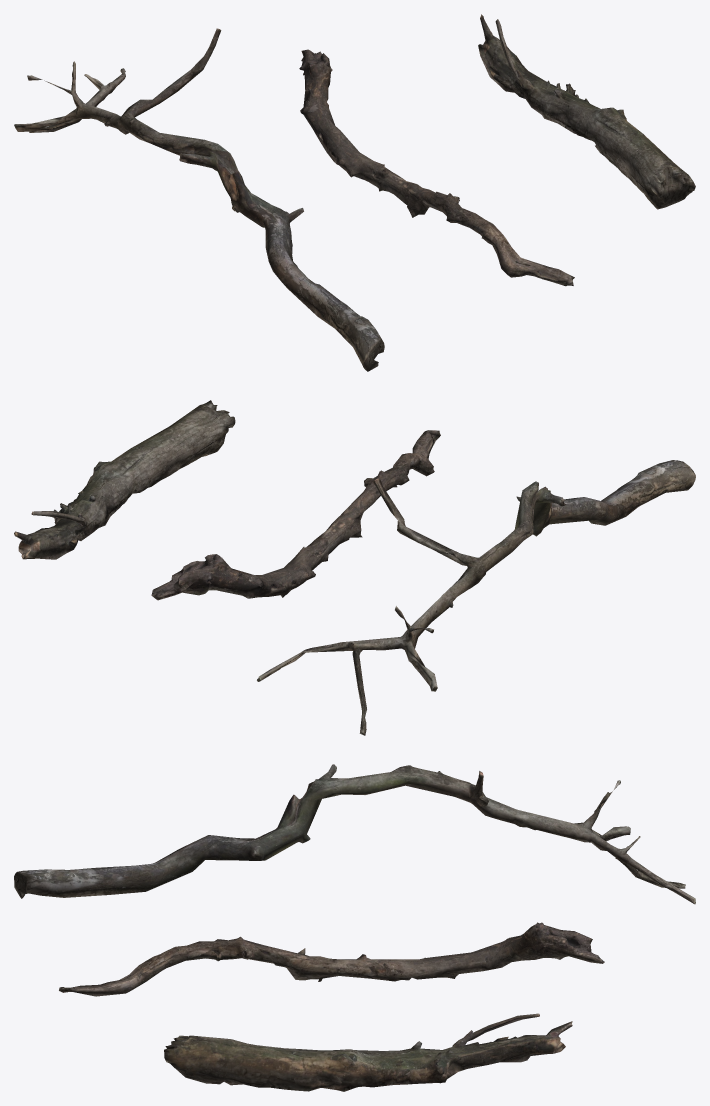
File: dry_branches_medium_01.glb
The picture shows the model from 3 angles, top to bottom: view 1: azimuth 30°, elevation 25°; view 2: azimuth 150°, elevation 25°; view 3: azimuth 270°, elevation 25°; orthographic projection. The views are drawn at different scales.
Visible parts, largest first — view 1: dry_branches_medium_01_a, dry_branches_medium_01_c, dry_branches_medium_01_b; view 2: dry_branches_medium_01_a, dry_branches_medium_01_c, dry_branches_medium_01_b; view 3: dry_branches_medium_01_a, dry_branches_medium_01_c, dry_branches_medium_01_b.
Part boxes in pixels (box(x1,y1,x2,y2)): dry_branches_medium_01_a: box(14, 28, 384, 371); dry_branches_medium_01_c: box(478, 14, 695, 209); dry_branches_medium_01_b: box(299, 49, 574, 286); dry_branches_medium_01_a: box(257, 460, 695, 735); dry_branches_medium_01_c: box(14, 400, 235, 559); dry_branches_medium_01_b: box(151, 430, 440, 600); dry_branches_medium_01_a: box(14, 764, 695, 904); dry_branches_medium_01_c: box(164, 1013, 572, 1091); dry_branches_medium_01_b: box(59, 922, 604, 996).
Size of the model in its own units: 1.06 by 0.34 by 1.3.
Materials: 1 (1 with a texture image).
